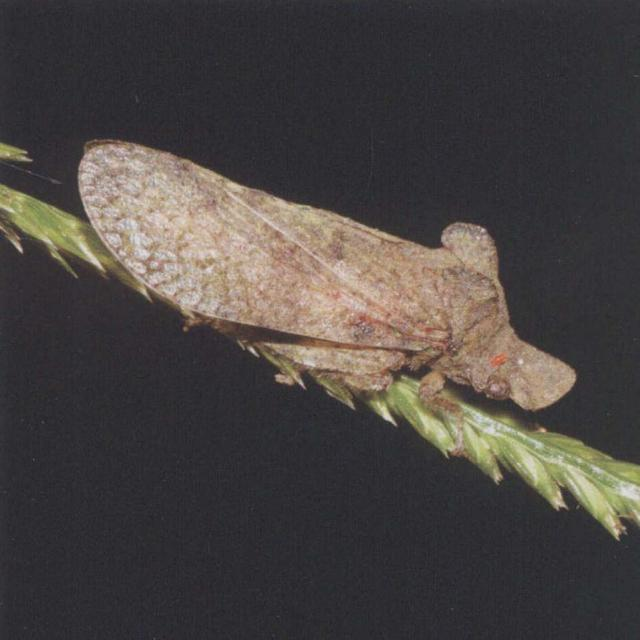Yechan: (77, 138, 576, 403)
